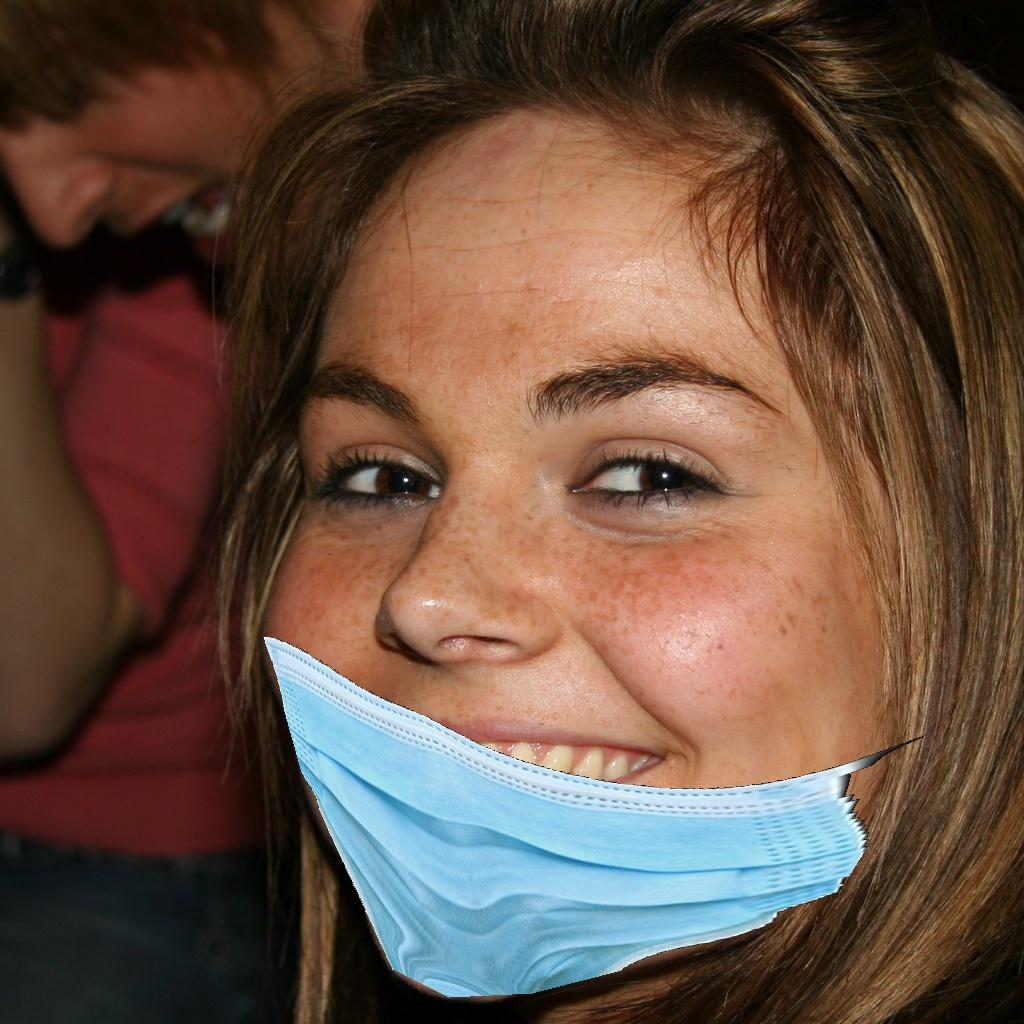Máscara Incorreta: (282, 272, 821, 934)
